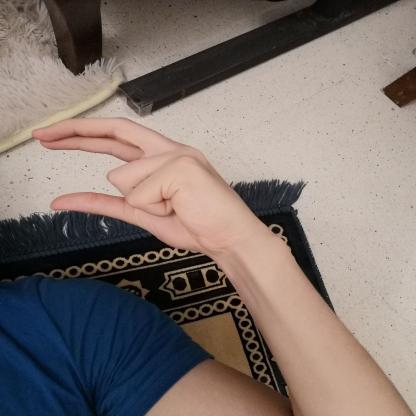DHELL: (18, 110, 242, 262)
